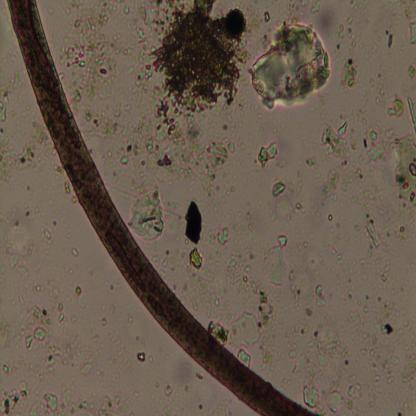Background material: (146, 1, 253, 123), (248, 20, 329, 111), (64, 2, 136, 96), (128, 115, 200, 170), (318, 116, 354, 193), (0, 122, 45, 176), (94, 102, 129, 170), (34, 388, 124, 414), (361, 346, 416, 388), (129, 185, 166, 245), (192, 158, 238, 206), (300, 329, 351, 372), (184, 254, 226, 305), (258, 323, 295, 380), (41, 343, 97, 380), (304, 379, 360, 415), (341, 178, 385, 222), (391, 132, 416, 208), (377, 206, 416, 253), (226, 305, 262, 352), (261, 232, 290, 286), (355, 124, 395, 163), (184, 200, 205, 270), (20, 306, 53, 348), (227, 251, 254, 302), (126, 164, 188, 186), (264, 195, 310, 223), (333, 9, 360, 55), (4, 240, 30, 283), (0, 377, 30, 414), (105, 330, 130, 374), (347, 306, 373, 348), (70, 93, 94, 137), (228, 201, 253, 243), (284, 262, 304, 314), (204, 130, 236, 162), (175, 358, 203, 392), (253, 283, 275, 326), (134, 26, 146, 102), (158, 245, 182, 281), (362, 293, 398, 317), (364, 67, 386, 106), (370, 254, 396, 286), (338, 58, 361, 90), (2, 46, 20, 86), (341, 272, 361, 303), (316, 192, 340, 217), (257, 141, 280, 167), (288, 168, 306, 199), (375, 316, 398, 338), (395, 392, 416, 416), (328, 243, 348, 268), (210, 318, 228, 345), (366, 223, 382, 251), (2, 359, 28, 376), (75, 281, 91, 308), (215, 222, 233, 246), (405, 93, 416, 132), (102, 269, 123, 288), (7, 208, 23, 232), (157, 397, 179, 414), (209, 400, 232, 416), (314, 280, 327, 308), (388, 97, 404, 118), (158, 377, 176, 395), (52, 302, 64, 328), (270, 179, 286, 198), (398, 2, 416, 18), (0, 86, 8, 121), (365, 32, 379, 52), (385, 30, 396, 54), (24, 202, 37, 222), (352, 166, 366, 184), (407, 22, 416, 50), (40, 224, 53, 243), (61, 178, 72, 196), (406, 64, 416, 81), (32, 280, 45, 291), (261, 11, 271, 25), (69, 247, 80, 259), (124, 311, 133, 323), (306, 158, 316, 168), (137, 352, 146, 363), (46, 3, 55, 14), (17, 295, 25, 306), (70, 313, 80, 321), (100, 316, 108, 325), (70, 194, 76, 206), (308, 308, 314, 320), (280, 160, 287, 170), (326, 217, 334, 225), (199, 403, 205, 412), (135, 391, 141, 399)
Microfibre: (6, 0, 318, 415)
